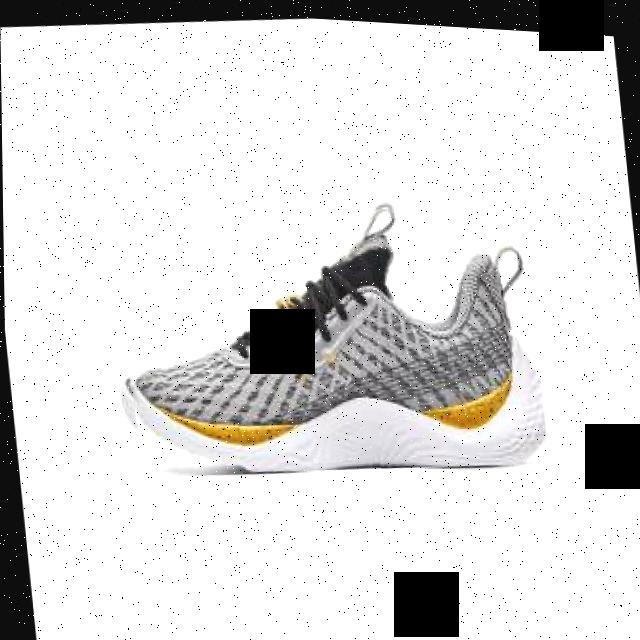shoe: (101, 175, 548, 493)
